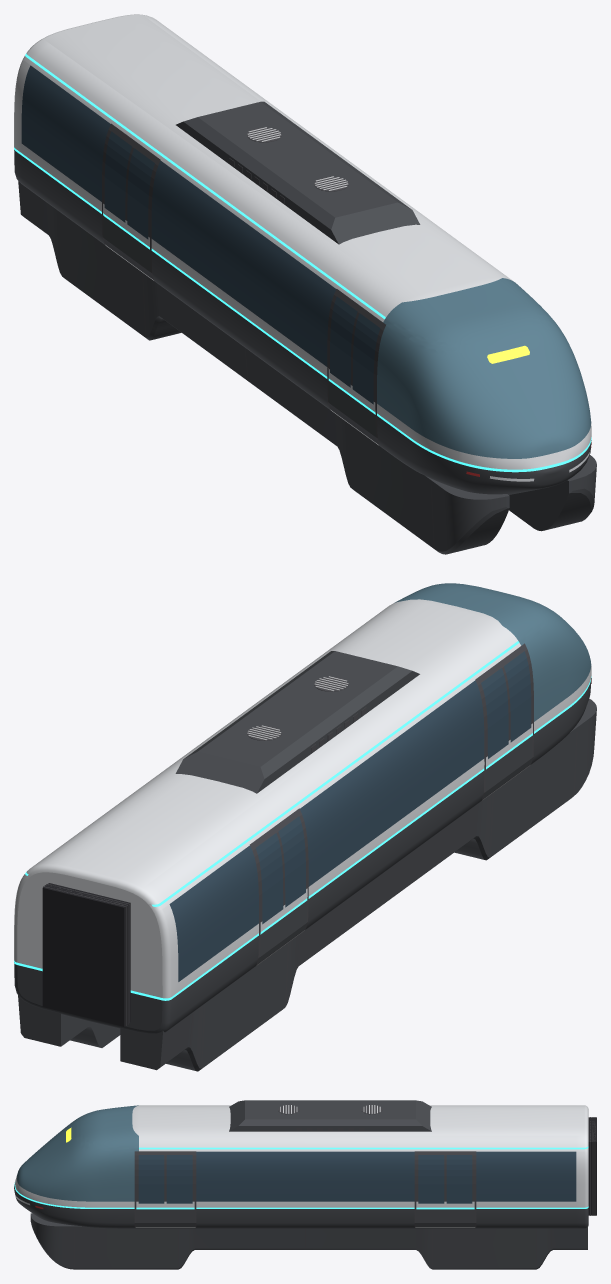
File: 318_close.fbx
The picture shows the model from 3 angles, top to bottom: view 1: azimuth 30°, elevation 25°; view 2: azimuth 150°, elevation 25°; view 3: azimuth 270°, elevation 25°; orthographic projection. The views are drawn at different scales.
Visible parts, largest first — view 1: 318_close; view 2: 318_close; view 3: 318_close.
Boxes of the visible parts, x1=… form: 318_close: x1=14, y1=14, x2=596, y2=554; 318_close: x1=14, y1=583, x2=596, y2=1071; 318_close: x1=14, y1=1100, x2=596, y2=1269.
Size of the model in its own units: 2.72 by 3.71 by 14.
